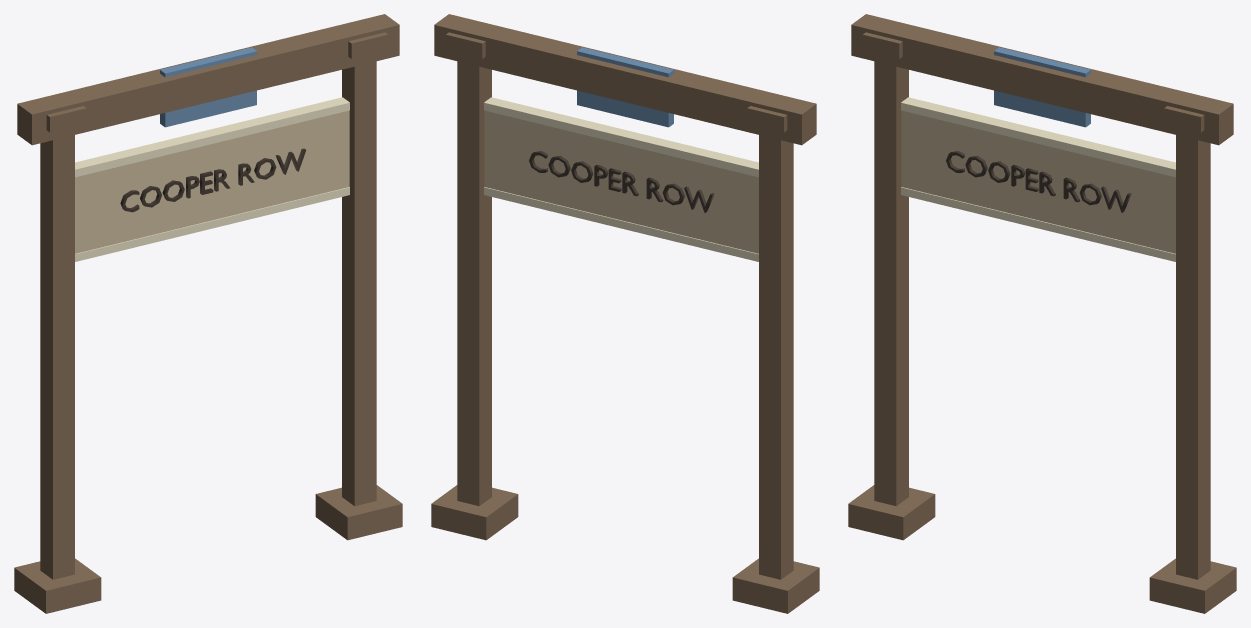
Rendered from prop_ward_west.glb.
The picture shows the model from 3 angles, left to right: view 1: azimuth 30°, elevation 25°; view 2: azimuth 150°, elevation 25°; view 3: azimuth 330°, elevation 25°; orthographic projection.
Parts seen in each view (by area): view 1: prop_ward_sign; view 2: prop_ward_sign; view 3: prop_ward_sign.
Part boxes in pixels (x1,y1,x2,y2): prop_ward_sign: [14, 14, 402, 613]; prop_ward_sign: [431, 14, 819, 613]; prop_ward_sign: [848, 14, 1236, 613].
Bounding box in the file's own units: 2 × 2.59 × 0.3.
